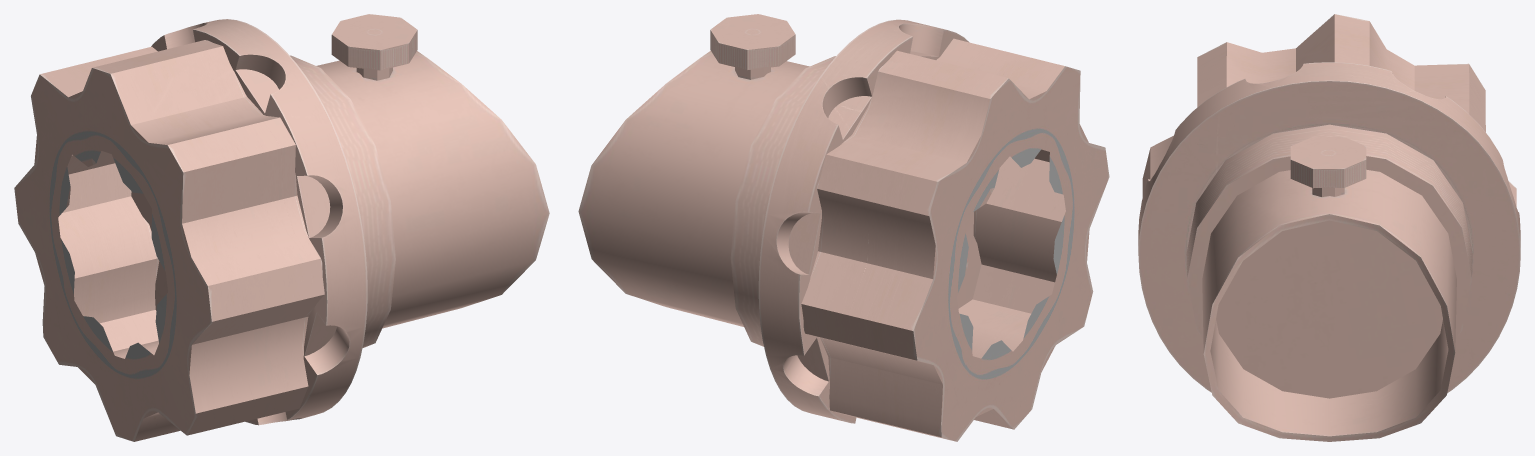
File: guard_12_c_c.glb
The picture shows the model from 3 angles, left to right: view 1: azimuth 30°, elevation 25°; view 2: azimuth 150°, elevation 25°; view 3: azimuth 270°, elevation 25°; orthographic projection. The views are drawn at different scales.
Visible parts, largest first — view 1: guard_12_c_c_lod0; view 2: guard_12_c_c_lod0; view 3: guard_12_c_c_lod0.
Part boxes in pixels (<box>): guard_12_c_c_lod0: <box>14,14,549,441</box>; guard_12_c_c_lod0: <box>578,14,1109,441</box>; guard_12_c_c_lod0: <box>1138,14,1520,441</box>.
Size of what is drawn, in the model's own units: 0.0478 by 0.0452 by 0.0452.
Materials: 1 (1 with a texture image).
